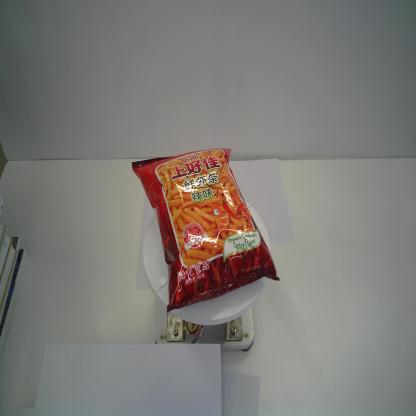Puffed Food: (131, 147, 280, 313)
